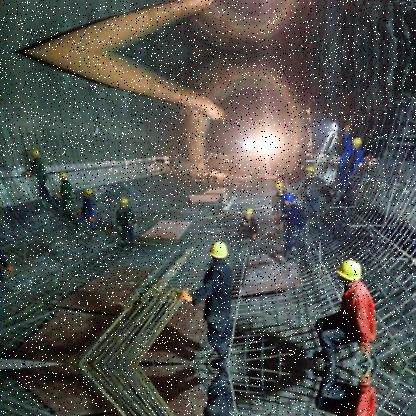Helmet: (336, 255, 365, 292), (273, 177, 291, 200), (210, 238, 226, 262), (302, 158, 318, 178), (350, 135, 364, 154), (82, 185, 98, 201), (56, 169, 72, 182), (119, 197, 132, 210), (30, 147, 40, 161), (245, 205, 252, 219)
